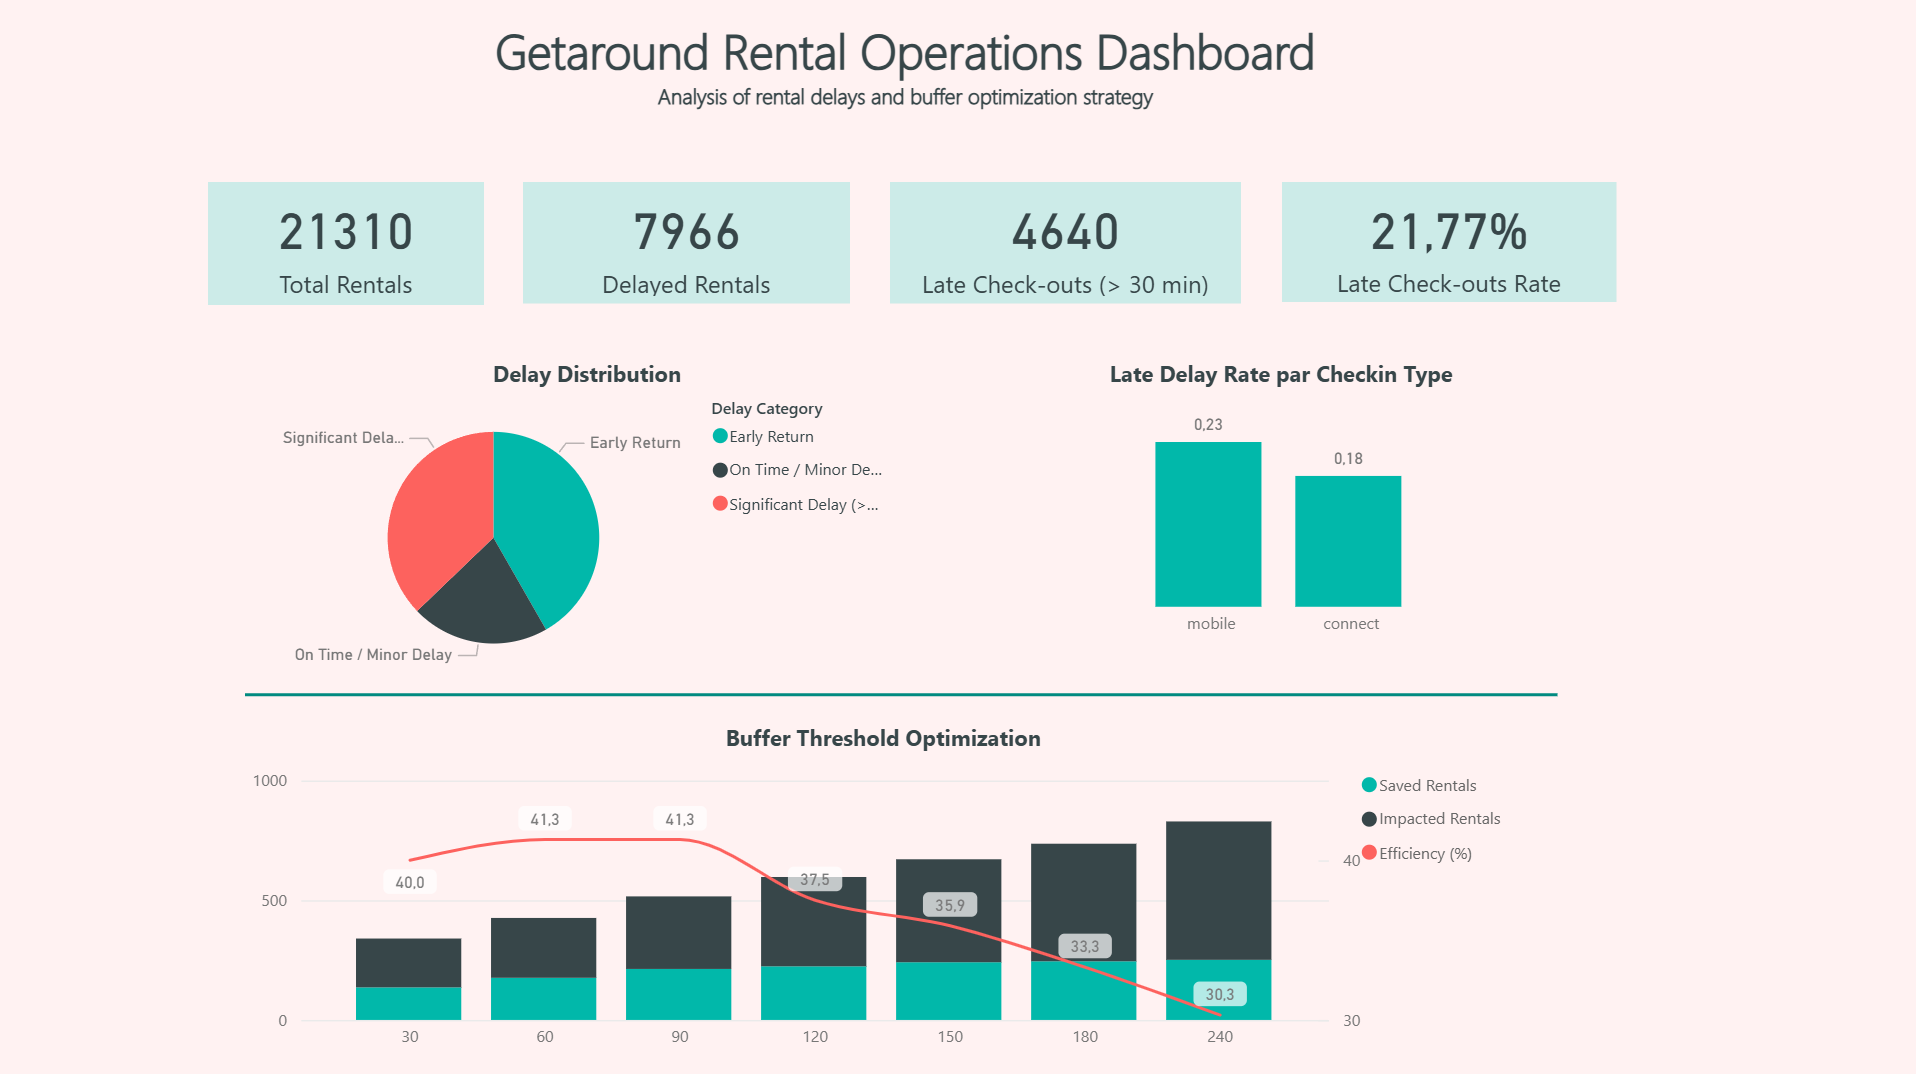

Layout of this report page (visuals, bound fields, positions):
{"tool":"powerbi","page":{"name":"Getaround threashold analysis","canvas":[1280,720],"ordinal":0},"visuals":[{"type":"card","fields":{"Values":["Count(rentals_clean.rental_id)"]},"box":[139.8,122.5,183.7,81.6],"z":0},{"type":"card","fields":{"Values":["rentals_clean.Delay Rate"]},"box":[856.1,122.5,222.7,80.4],"z":1000},{"type":"card","fields":{"Values":["rentals_clean.Delayed Rentals"]},"box":[350.1,122.5,217.7,81],"z":2000},{"type":"card","fields":{"Values":["rentals_clean.Late >30 min"]},"box":[594.4,122.5,233.8,81],"z":3000},{"type":"pieChart","title":"Delay Distribution","fields":{"Category":["rentals_clean.Delay Category"],"Y":["rentals_clean.Total Rentals"]},"box":[180,240,425.6,219.6],"z":4000},{"type":"clusteredColumnChart","fields":{"Category":["rentals_clean.checkin_type"],"Y":["rentals_clean.Late Delay Rate"]},"box":[682.9,240,345.8,194.8],"z":5000},{"type":"lineStackedColumnComboChart","title":"Buffer Threshold Optimization","fields":{"Category":["buffer_analysis.buffer_minutes"],"Y":["Sum(buffer_analysis.saved_rentals)","Sum(buffer_analysis.additional_impacted)"],"Y2":["Sum(buffer_analysis.efficiency_pct)"]},"box":[164.5,482.5,851.1,227.6],"z":6000},{"type":"shape","box":[164.5,337.7,875.3,253],"z":7000},{"type":"textbox","box":[167.6,7.4,875.3,94],"z":8000}]}

Visuals, with their boxes in screenshot pixels (x1, y1, x2, y2), scaled from the page's 1280x720 canvas onto the 1916x1074 screenshot:
card - Count(rentals_clean.rental_id): [left=209, top=183, right=484, bottom=304]
card - rentals_clean.Delay Rate: [left=1281, top=183, right=1615, bottom=303]
card - rentals_clean.Delayed Rentals: [left=524, top=183, right=850, bottom=304]
card - rentals_clean.Late >30 min: [left=890, top=183, right=1240, bottom=304]
"Delay Distribution" pieChart: [left=269, top=358, right=907, bottom=686]
clusteredColumnChart - rentals_clean.checkin_type x rentals_clean.Late Delay Rate: [left=1022, top=358, right=1540, bottom=649]
"Buffer Threshold Optimization" lineStackedColumnComboChart: [left=246, top=720, right=1520, bottom=1059]
shape: [left=246, top=504, right=1556, bottom=881]
textbox: [left=251, top=11, right=1561, bottom=151]
